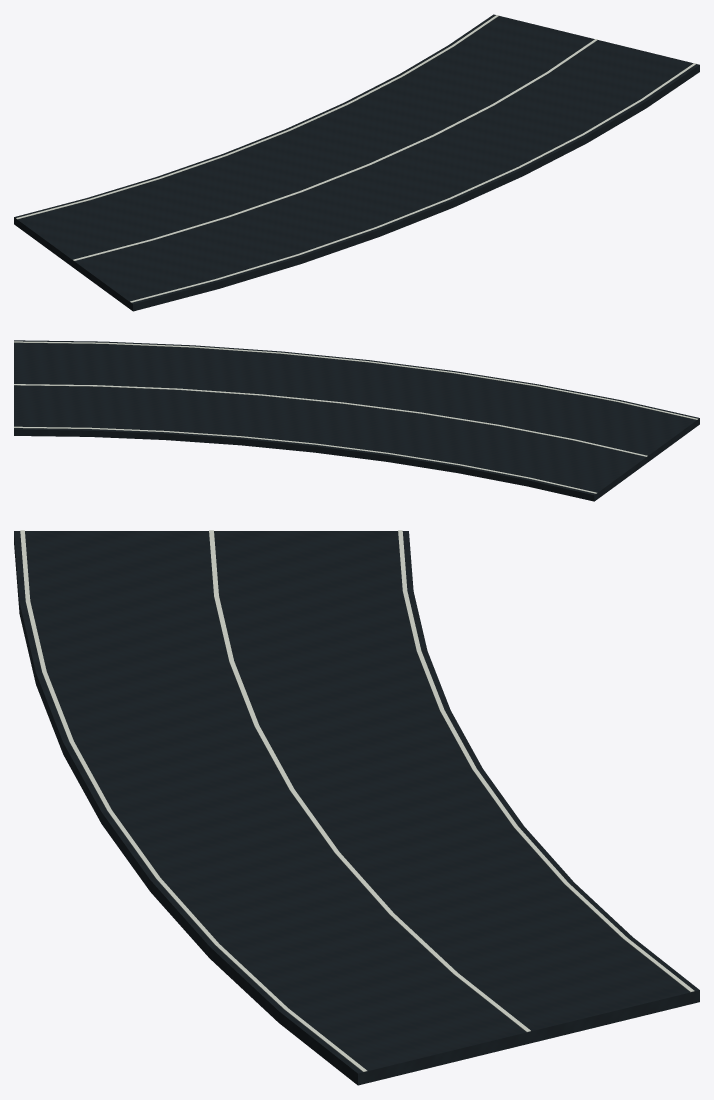
Rendered from Transit_Road_2L_Curve30_R36.glb.
3 views of the same model, one above another, from view 1: azimuth 30°, elevation 25°; view 2: azimuth 150°, elevation 25°; view 3: azimuth 270°, elevation 25° (orthographic). The views are drawn at different scales.
Parts seen in each view (by area): view 1: Transit_Road_2L_Curve30_R36_Surface, Transit_Road_2L_Curve30_R36_MarkEdge-1, Transit_Road_2L_Curve30_R36_MarkLane1, Transit_Road_2L_Curve30_R36_MarkEdge+1; view 2: Transit_Road_2L_Curve30_R36_Surface, Transit_Road_2L_Curve30_R36_MarkEdge-1, Transit_Road_2L_Curve30_R36_MarkLane1, Transit_Road_2L_Curve30_R36_MarkEdge+1; view 3: Transit_Road_2L_Curve30_R36_Surface, Transit_Road_2L_Curve30_R36_MarkEdge-1, Transit_Road_2L_Curve30_R36_MarkLane1, Transit_Road_2L_Curve30_R36_MarkEdge+1.
Boxes of the visible parts, <box> form: Transit_Road_2L_Curve30_R36_Surface: <box>14,14,699,311</box>; Transit_Road_2L_Curve30_R36_MarkEdge-1: <box>130,63,696,302</box>; Transit_Road_2L_Curve30_R36_MarkLane1: <box>73,39,597,260</box>; Transit_Road_2L_Curve30_R36_MarkEdge+1: <box>16,15,498,219</box>; Transit_Road_2L_Curve30_R36_Surface: <box>14,340,699,501</box>; Transit_Road_2L_Curve30_R36_MarkEdge-1: <box>14,341,697,419</box>; Transit_Road_2L_Curve30_R36_MarkLane1: <box>14,384,647,456</box>; Transit_Road_2L_Curve30_R36_MarkEdge+1: <box>14,426,596,493</box>; Transit_Road_2L_Curve30_R36_Surface: <box>14,531,699,1085</box>; Transit_Road_2L_Curve30_R36_MarkEdge-1: <box>20,530,367,1071</box>; Transit_Road_2L_Curve30_R36_MarkLane1: <box>209,530,530,1031</box>; Transit_Road_2L_Curve30_R36_MarkEdge+1: <box>398,530,694,992</box>.
Bounding box in the file's own units: 19.5 × 0.212 × 10.42.
Materials: 2 (1 with a texture image).
